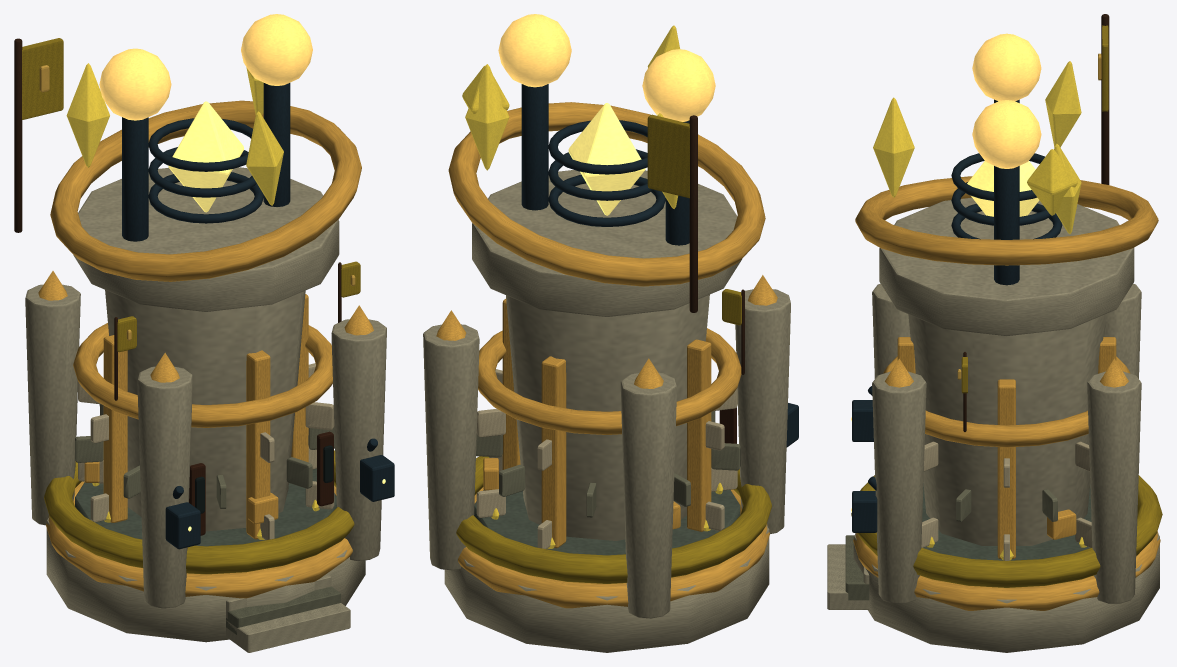
Rendered from tower-thunder-3-0.glb.
3 renders of one model, left to right at view 1: azimuth 30°, elevation 25°; view 2: azimuth 150°, elevation 25°; view 3: azimuth 270°, elevation 25°, orthographic. The views are drawn at different scales.
Visible parts, largest first — view 1: Foundation, Turret, thunder-L3-0; view 2: Foundation, Turret, thunder-L3-0; view 3: Foundation, Turret, thunder-L3-0.
Boxes of the visible parts, box(x1,y1,x2,y2) form: Foundation: box(14, 38, 394, 652); Turret: box(50, 14, 361, 311); thunder-L3-0: box(46, 468, 365, 642); Foundation: box(423, 114, 798, 618); Turret: box(448, 14, 765, 316); thunder-L3-0: box(444, 489, 769, 652); Foundation: box(827, 14, 1162, 610); Turret: box(855, 33, 1158, 335); thunder-L3-0: box(853, 483, 1159, 652).
Size of the model in its own units: 1.71 by 3.14 by 1.84.
18 materials, 18 textured.
